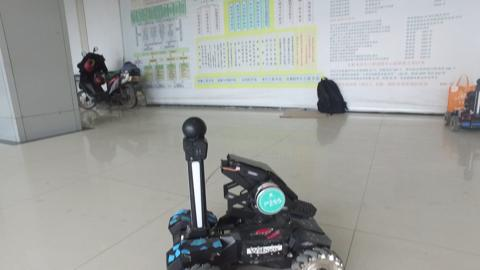bag: (315, 74, 350, 116), (447, 71, 475, 116)
chariot: (164, 115, 345, 270), (442, 76, 480, 132)
